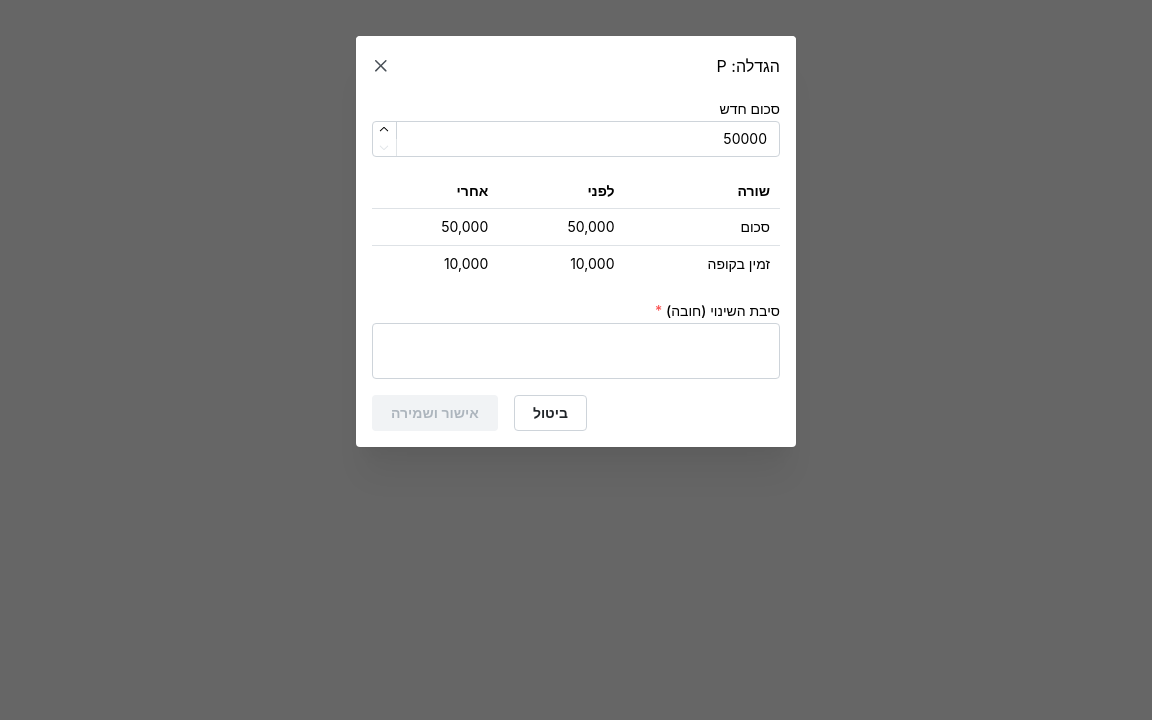
GrantEditDialog › increase shows old and new amount and the pool effect
The image size is (1152, 720).
Replace the text in the field with test id "grant-edit-amount" with "51000" at (576, 139), box [372, 121, 780, 157]
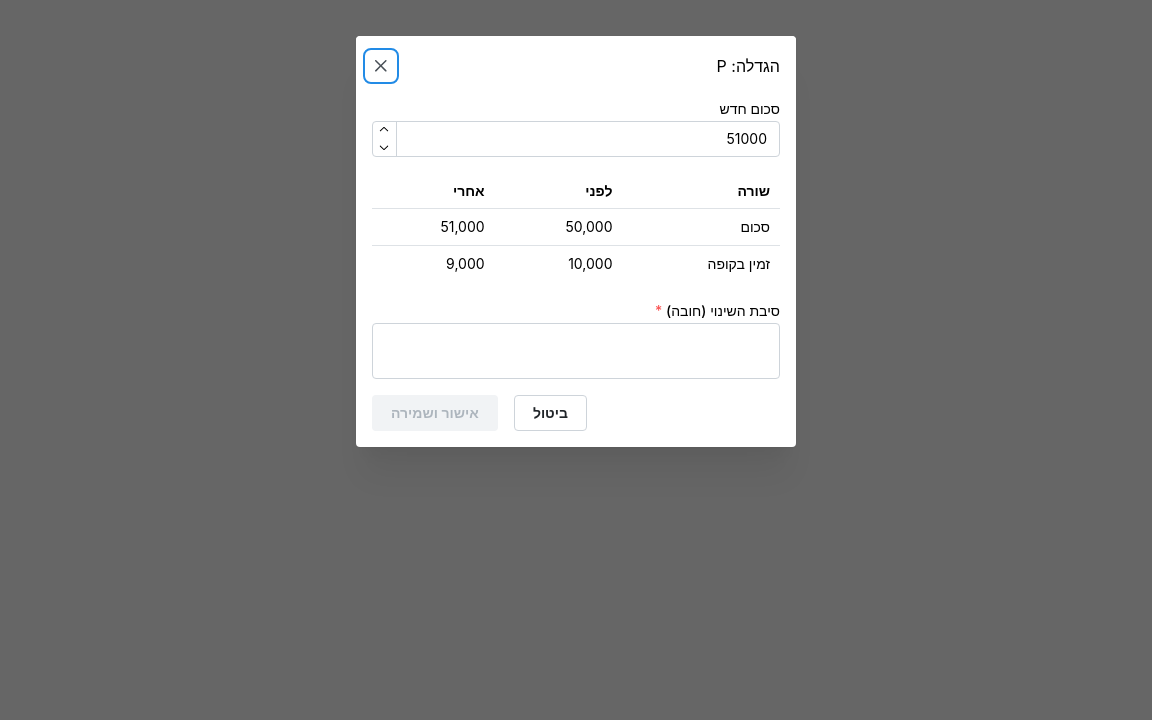
expect the cell with test id "summary-before" reads "50,000": met, box [566, 218, 612, 236]
expect the cell with test id "summary-after" reads "51,000": met, box [440, 218, 485, 236]
expect the cell with test id "pool-after" reads "9,000": met, box [446, 255, 485, 272]
